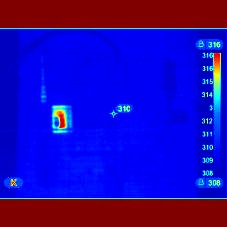Less: (53, 119, 59, 127)
